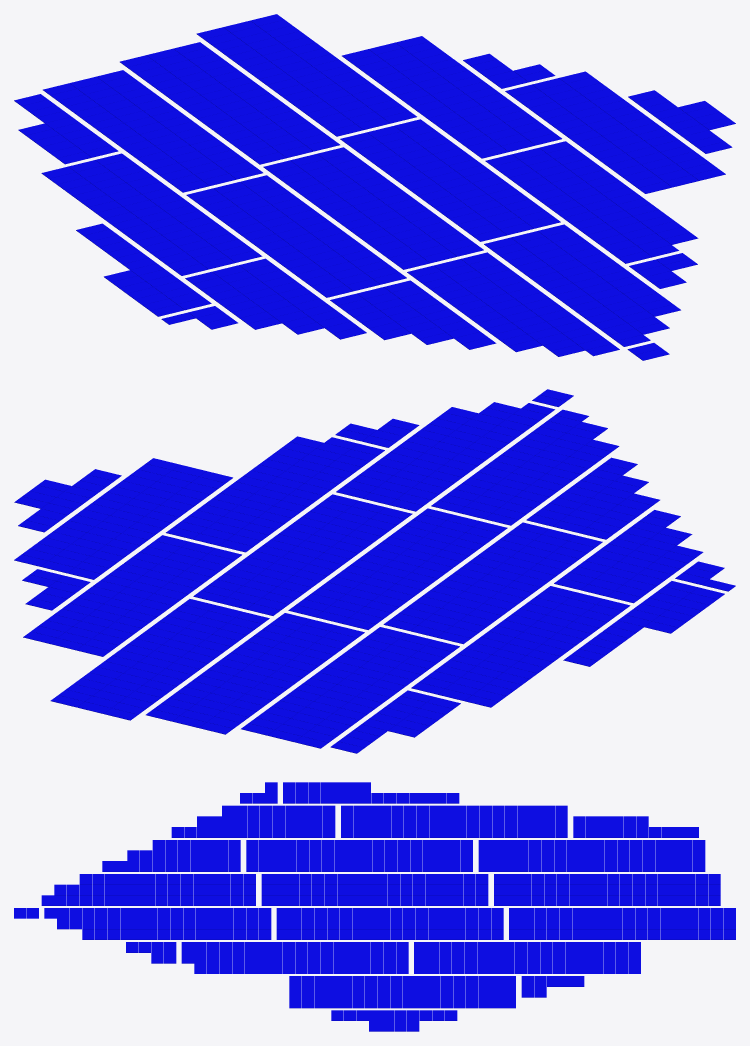
Rendered from blender3.gltf.
3 views of the same model, one above another, from view 1: azimuth 30°, elevation 25°; view 2: azimuth 150°, elevation 25°; view 3: azimuth 270°, elevation 25° (orthographic). The views are drawn at different scales.
Bounding box in the file's own units: 53.9 × 0.03 × 66.04.
